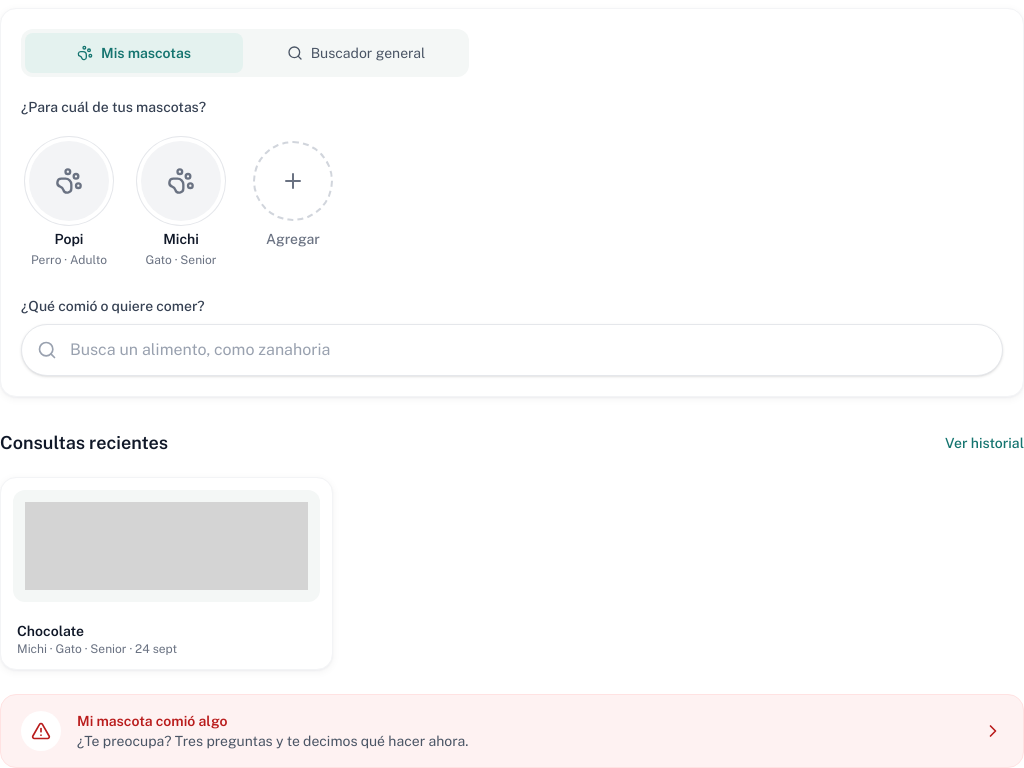
SearchPage › repeats a consultation for the same pet
The width and height of the screenshot is (1024, 768).
(page scrolled)
What coordinates should you click on to do the following:
click the button with aria-label "Consultar de nuevo Chocolate para Michi"
I would click on:
 (167, 574)
Its box is 0,477 -> 333,670.
(page scrolled)
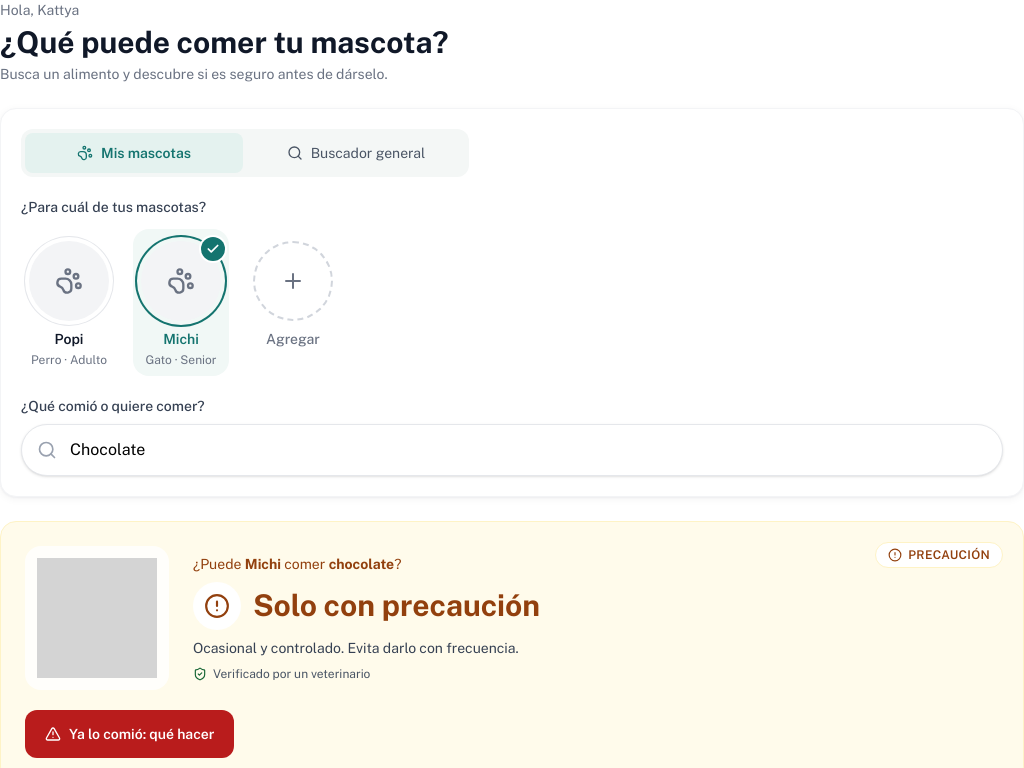
Result: the heading "Solo con precaución" is shown at 253,587 -> 540,625
Result: the heading "Consultas recientes" is gone
